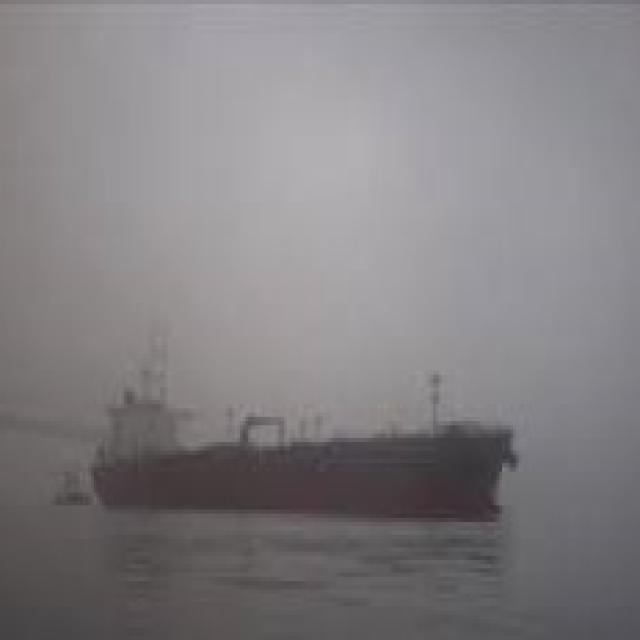cargoship: (93, 356, 516, 512)
